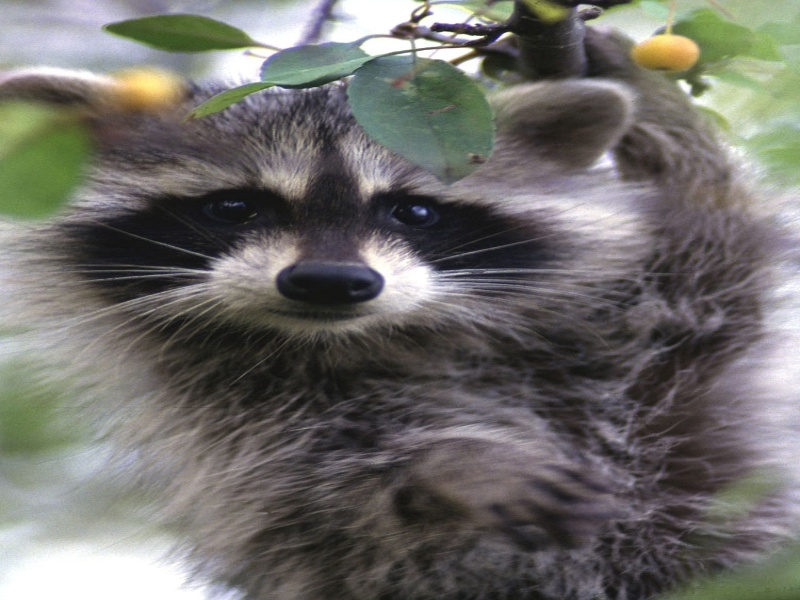raccoon: (7, 36, 769, 587)
